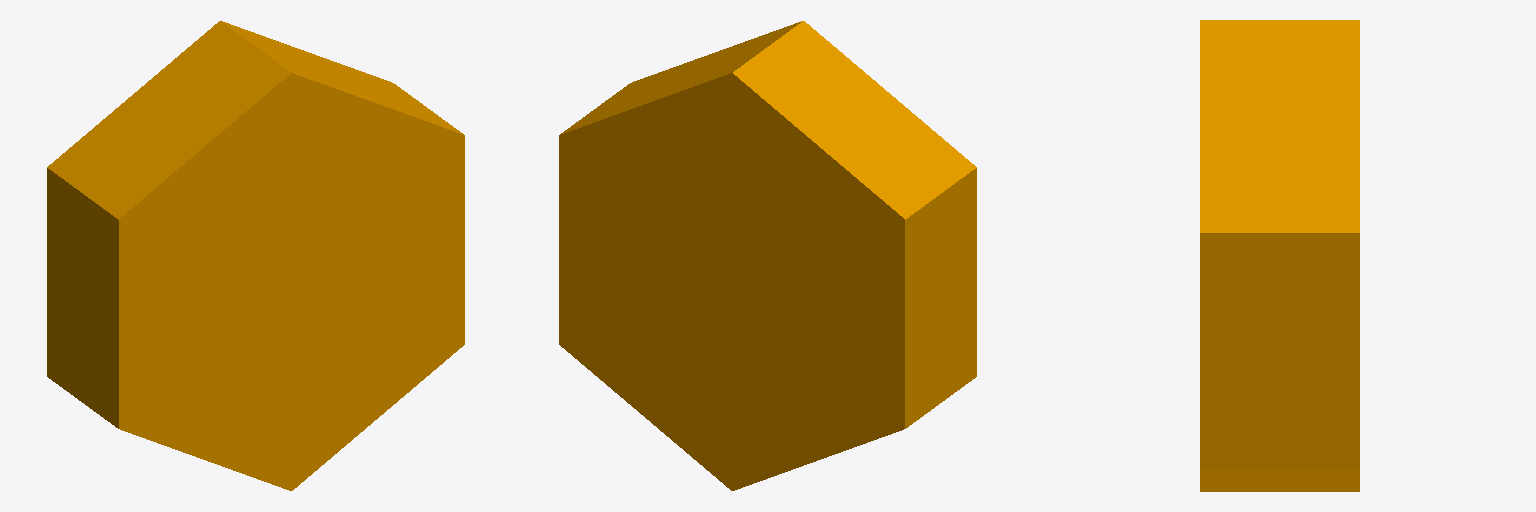
URDF robot description (seeded_peeled_cucumber_slice):
<?xml version="1.0"?>
<robot name="seeded_peeled_cucumber_slice">
  <link name="slice">
    <inertial>
        <origin rpy="0 0 0" xyz="0 0 0"/>
        <mass value="0.01"/>
        <inertia ixx="4.4e-5" ixy="0" ixz="0" iyy="0" iyz="0" izz="4.4e-5"/>
    </inertial>
    <visual>
      <geometry>
        <mesh filename="peeledCucumberSlice.obj"/>
      </geometry>
    </visual>
    <collision>
      <geometry>
        <mesh filename="peeledCucumberSlice.obj"/>
      </geometry>
      <surface>
           <bounce restitution_coefficient = "0.1"/>
      </surface>
    </collision>
  </link>
</robot>

--- What the picture shows (computed from the rendered views, not written in the file) ---
The picture shows the robot from 3 angles, left to right: view 1: azimuth 30°, elevation 25°; view 2: azimuth 150°, elevation 25°; view 3: azimuth 270°, elevation 25°; orthographic projection.
Robot: seeded_peeled_cucumber_slice — 1 links, 0 joints (none); root link slice; default pose: every joint at zero.
Links seen in each view (by area): view 1: slice; view 2: slice; view 3: slice.
Boxes of the visible links, left/top/right/bottom form: slice: left=47, top=21, right=464, bottom=490; slice: left=559, top=21, right=976, bottom=490; slice: left=1200, top=20, right=1359, bottom=491.
Bounding box of the posed robot: 0.0808 × 0.0289 × 0.0933 m (x, y, z).
1 mesh visuals loaded from 1 distinct referenced files (1 OBJ).
